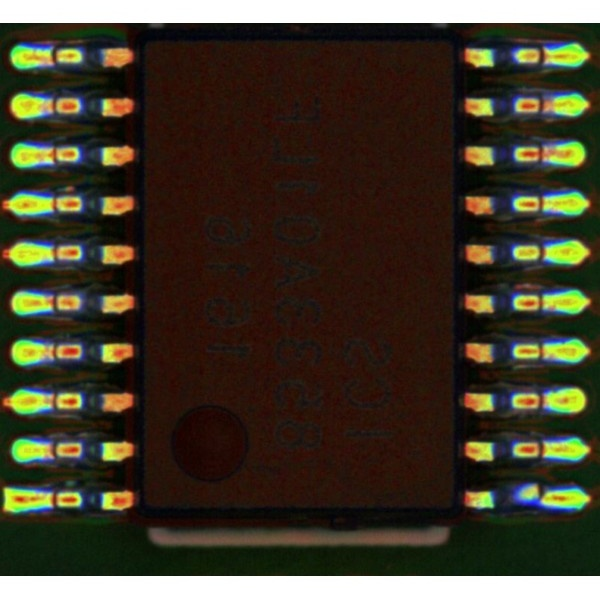Bad_podu: (528, 146, 562, 160), (530, 49, 561, 62), (529, 99, 557, 112), (37, 53, 70, 64), (43, 148, 66, 162), (46, 343, 66, 359), (45, 296, 66, 311), (43, 394, 66, 407), (43, 443, 64, 457), (44, 98, 64, 112)
